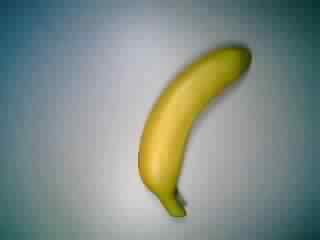banana: (136, 40, 253, 217)
